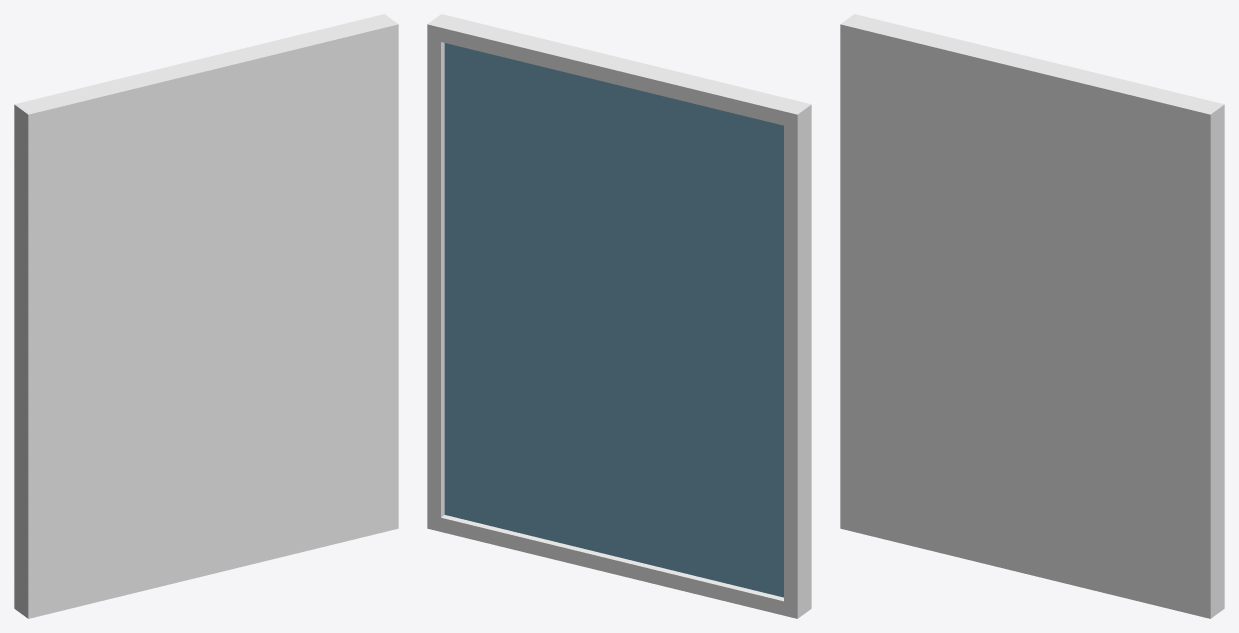
File: SM_Mirror_01.FBX
3 views of the same model, side by side, from view 1: azimuth 30°, elevation 25°; view 2: azimuth 150°, elevation 25°; view 3: azimuth 330°, elevation 25° (orthographic).
Parts seen in each view (by area): view 1: SM_Mirror_01; view 2: SM_Mirror_01; view 3: SM_Mirror_01.
Boxes of the visible parts, bbox=[...] form: SM_Mirror_01: bbox=[14, 14, 398, 618]; SM_Mirror_01: bbox=[427, 14, 811, 618]; SM_Mirror_01: bbox=[840, 14, 1224, 618].
Size of the model in its own units: 70.46 by 91.69 by 4.66.
2 materials, 2 textured.
